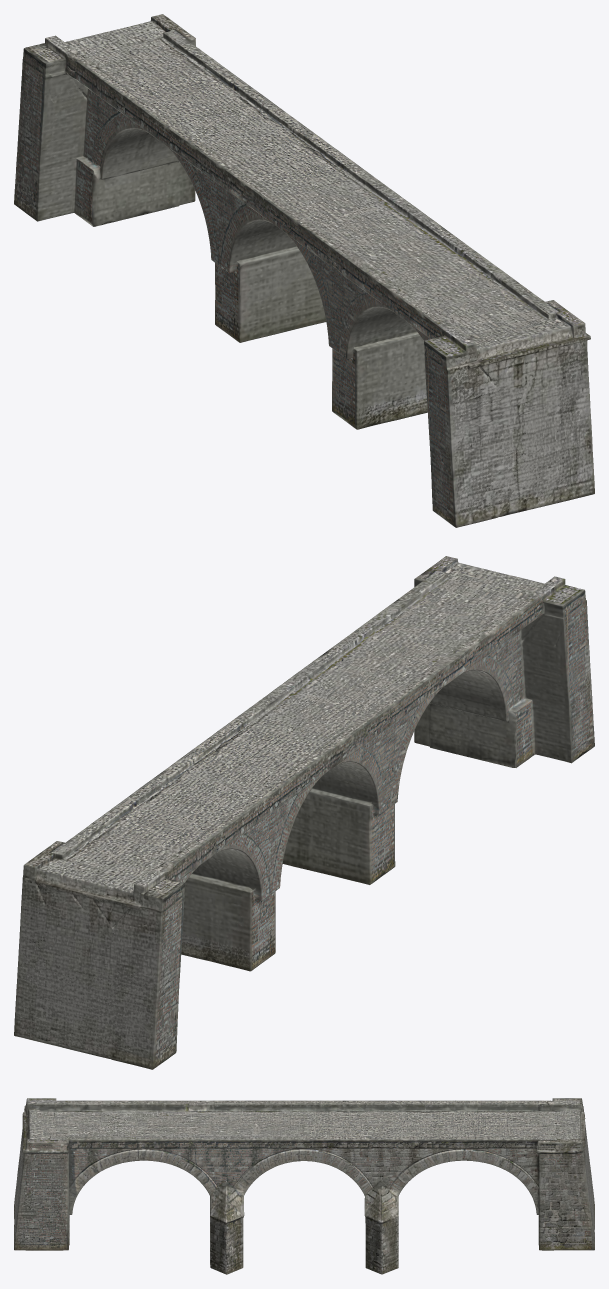
File: prop_stone_bridge.glb
The picture shows the model from 3 angles, top to bottom: view 1: azimuth 30°, elevation 25°; view 2: azimuth 150°, elevation 25°; view 3: azimuth 270°, elevation 25°; orthographic projection. The views are drawn at different scales.
Parts seen in each view (by area): view 1: tripo_node_812b97c7-af7f-460a-914c-28529c73b43e; view 2: tripo_node_812b97c7-af7f-460a-914c-28529c73b43e; view 3: tripo_node_812b97c7-af7f-460a-914c-28529c73b43e.
Part boxes in pixels (left/top/right/bottom): tripo_node_812b97c7-af7f-460a-914c-28529c73b43e: left=14, top=14, right=594, bottom=527; tripo_node_812b97c7-af7f-460a-914c-28529c73b43e: left=14, top=556, right=594, bottom=1069; tripo_node_812b97c7-af7f-460a-914c-28529c73b43e: left=14, top=1098, right=594, bottom=1274.
Bounding box in the file's own units: 0.2149 × 0.2375 × 0.9796.
Materials: 1 (1 with a texture image).
